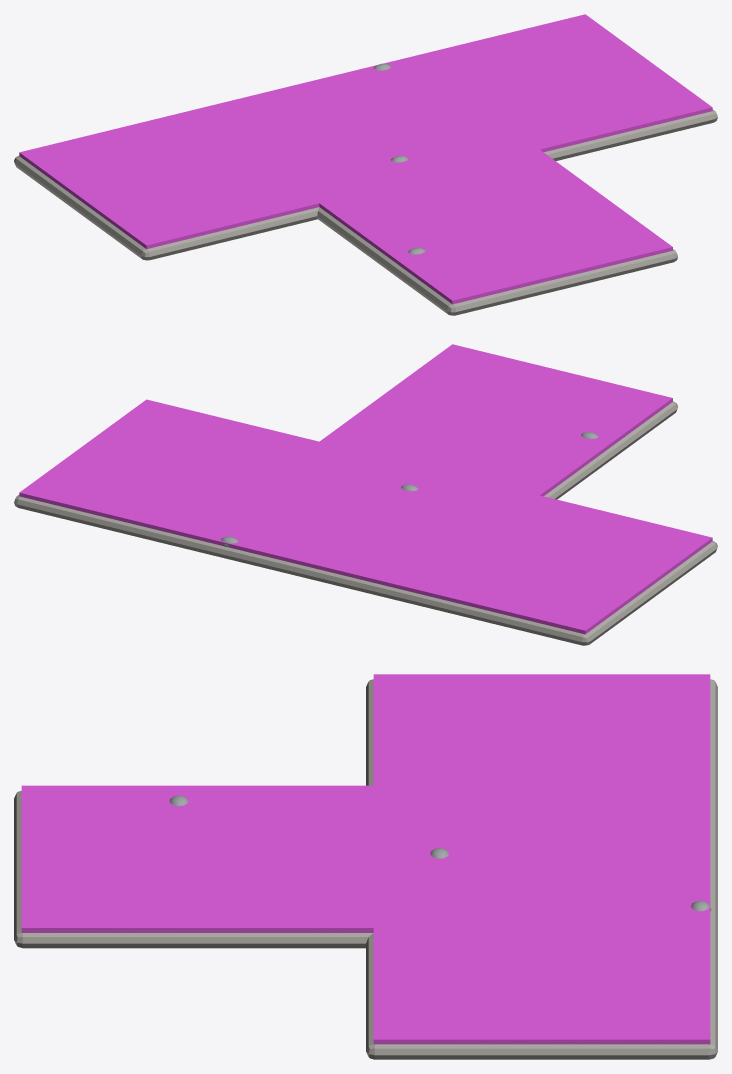
Rendered from forest_path_gravel_t_lod1_v1.glb.
The picture shows the model from 3 angles, top to bottom: view 1: azimuth 30°, elevation 25°; view 2: azimuth 150°, elevation 25°; view 3: azimuth 270°, elevation 25°; orthographic projection. The views are drawn at different scales.
Visible parts, largest first — view 1: NAV_MASK_FOREST_PATH_GRAVEL_T_BAR, NAV_MASK_FOREST_PATH_GRAVEL_T_STEM, LOD1_FOREST_PATH_GRAVEL_T_Bar, LOD1_FOREST_PATH_GRAVEL_T_Stem; view 2: NAV_MASK_FOREST_PATH_GRAVEL_T_BAR, NAV_MASK_FOREST_PATH_GRAVEL_T_STEM, LOD1_FOREST_PATH_GRAVEL_T_Bar, LOD1_FOREST_PATH_GRAVEL_T_Stem; view 3: NAV_MASK_FOREST_PATH_GRAVEL_T_BAR, NAV_MASK_FOREST_PATH_GRAVEL_T_STEM, LOD1_FOREST_PATH_GRAVEL_T_Bar, LOD1_FOREST_PATH_GRAVEL_T_Stem.
Boxes of the visible parts, box(x1,y1,x2,y2) form: NAV_MASK_FOREST_PATH_GRAVEL_T_BAR: box(19, 14, 712, 249); NAV_MASK_FOREST_PATH_GRAVEL_T_STEM: box(276, 105, 672, 304); LOD1_FOREST_PATH_GRAVEL_T_Bar: box(14, 109, 717, 260); LOD1_FOREST_PATH_GRAVEL_T_Stem: box(317, 207, 677, 315); NAV_MASK_FOREST_PATH_GRAVEL_T_BAR: box(19, 399, 712, 634); NAV_MASK_FOREST_PATH_GRAVEL_T_STEM: box(314, 344, 672, 496); LOD1_FOREST_PATH_GRAVEL_T_Bar: box(14, 495, 717, 645); LOD1_FOREST_PATH_GRAVEL_T_Stem: box(544, 401, 677, 499); NAV_MASK_FOREST_PATH_GRAVEL_T_BAR: box(373, 674, 710, 1044); NAV_MASK_FOREST_PATH_GRAVEL_T_STEM: box(21, 785, 533, 932); LOD1_FOREST_PATH_GRAVEL_T_Bar: box(366, 679, 717, 1059); LOD1_FOREST_PATH_GRAVEL_T_Stem: box(14, 791, 372, 948).
Size of what is drawn, in the model's own units: 8 by 0.24 by 6.4.
